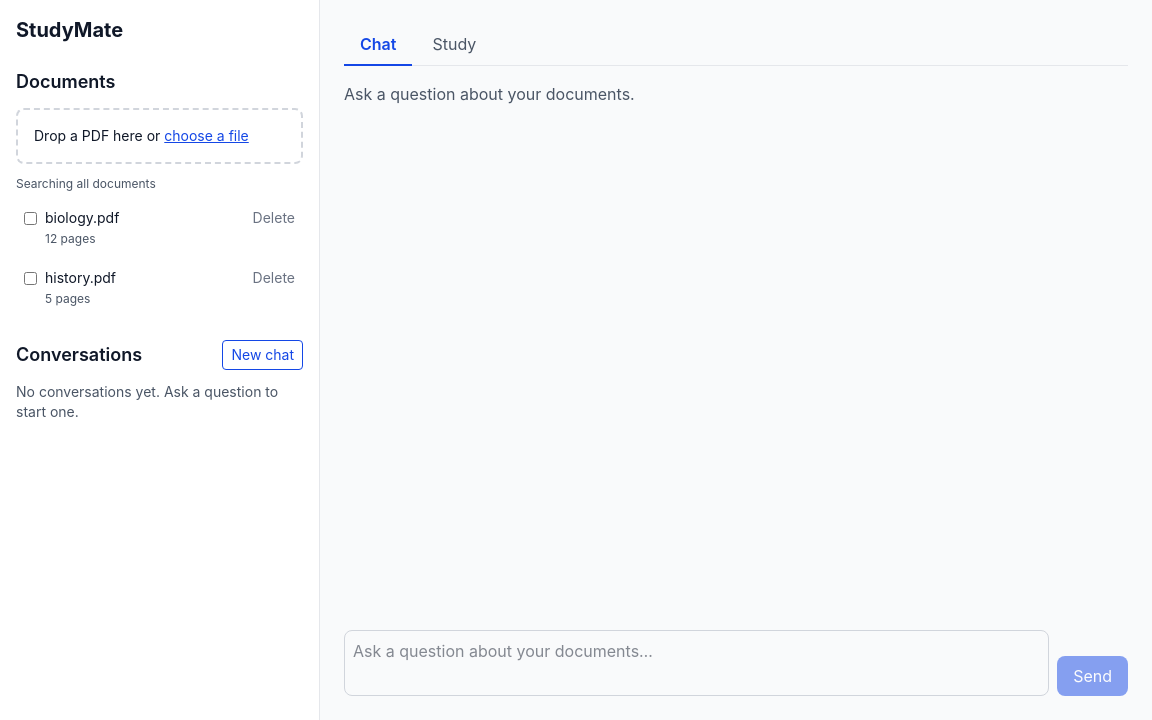
Test: App › moves the selection to the conversation and lists it after the first answer
Click the checkbox labelled "biology.pdf 12 pages": (30, 218) [24, 212, 37, 225]
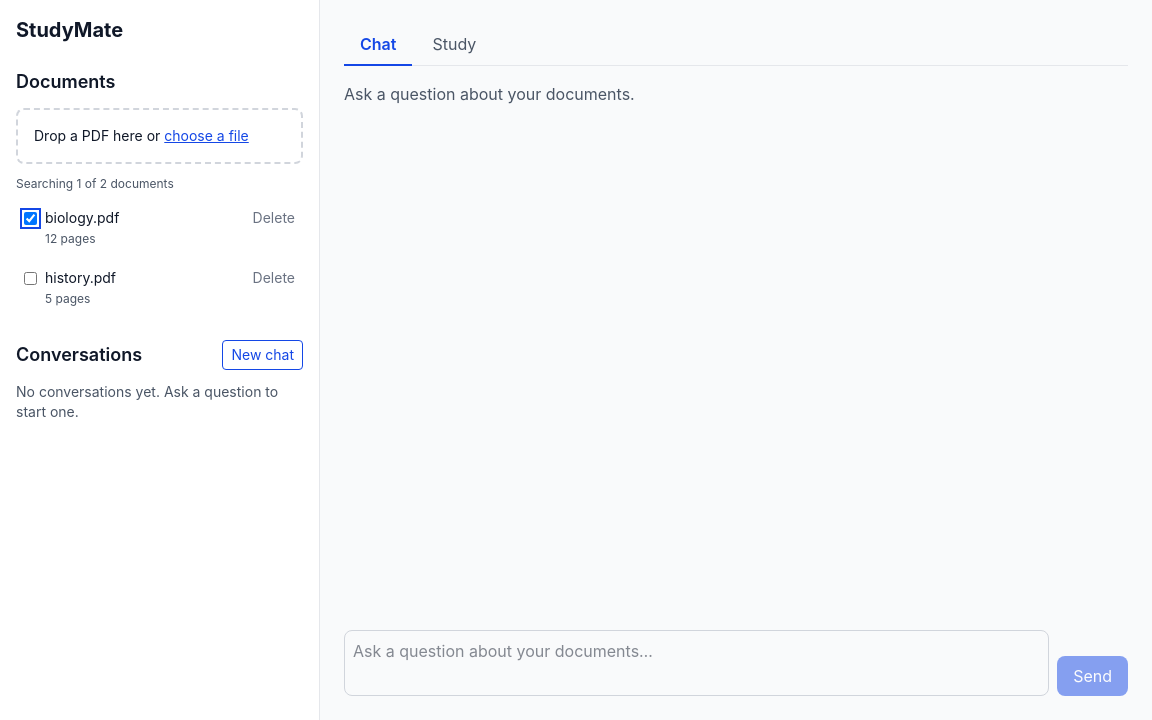
In the text box named "Your question": (697, 663) [344, 630, 1049, 696], type "What is mitosis?"
Then press Enter
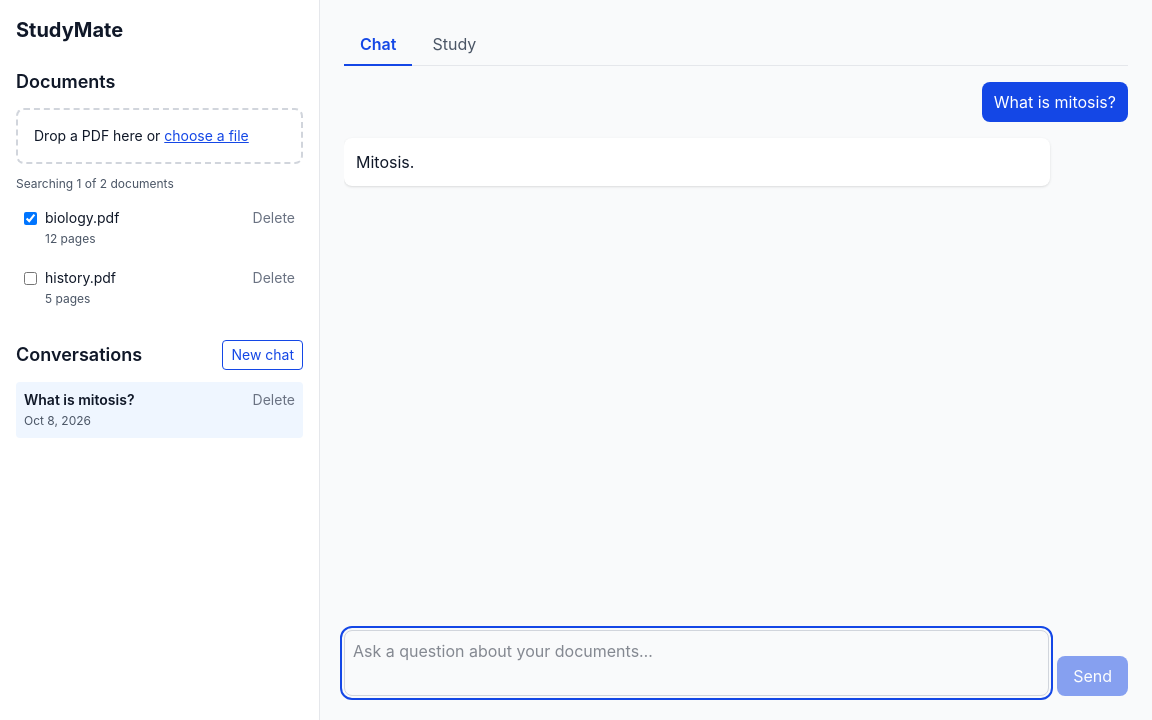
Expected: the checkbox labelled "biology.pdf 12 pages" is checked, [24, 212, 37, 225]
Expected: the text "Mitosis." is shown, [356, 152, 414, 172]
